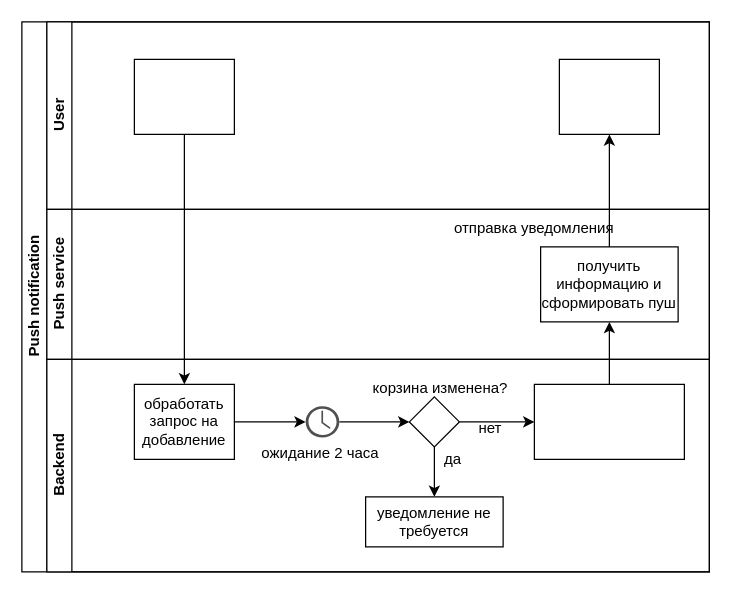
Image size: 731x594. Some labels were removed from this diagram. The centre of each missing label's shape, as x and y in pixels:
"добавить товар в корзину" goes at pixel 183 96.
"передать информацию о пользователе для создания уведомления" goes at pixel 608 421.
"получить уведомление" goes at pixel 608 96.
